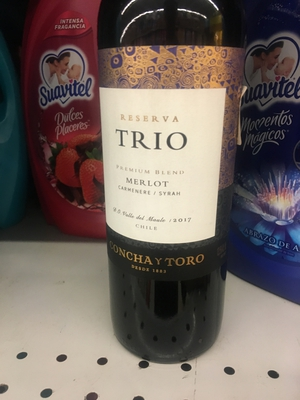trio merlot: (79, 10, 239, 372)
